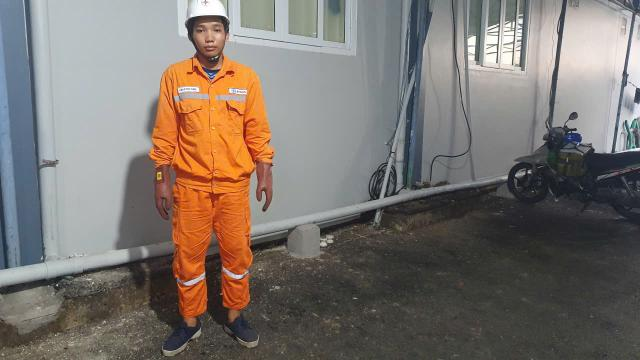gloves: (131, 152, 201, 238), (236, 146, 298, 232)
helmet: (175, 0, 247, 42)
shoes: (203, 292, 268, 353), (151, 299, 205, 350)
